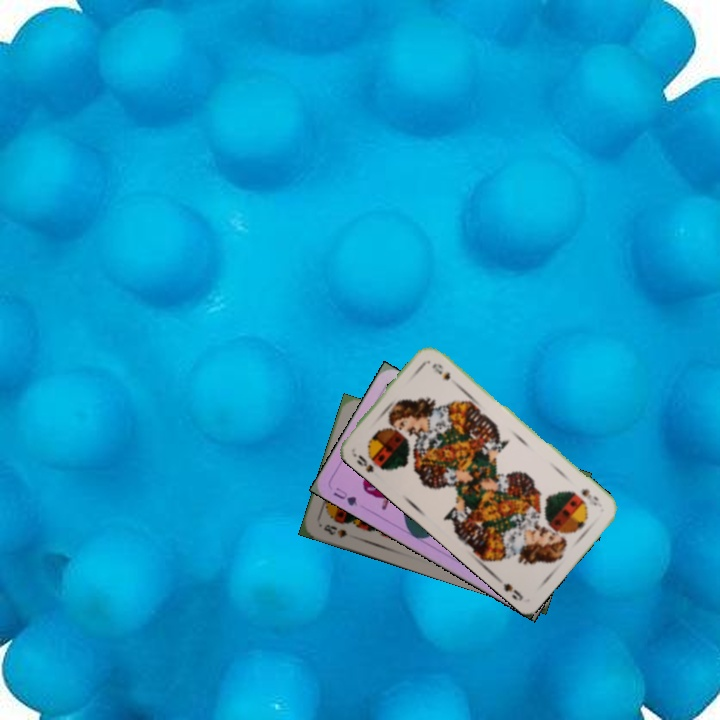GU: (329, 483, 360, 509)
S8: (320, 520, 350, 541)
SO: (348, 449, 377, 475), (577, 484, 601, 509)
